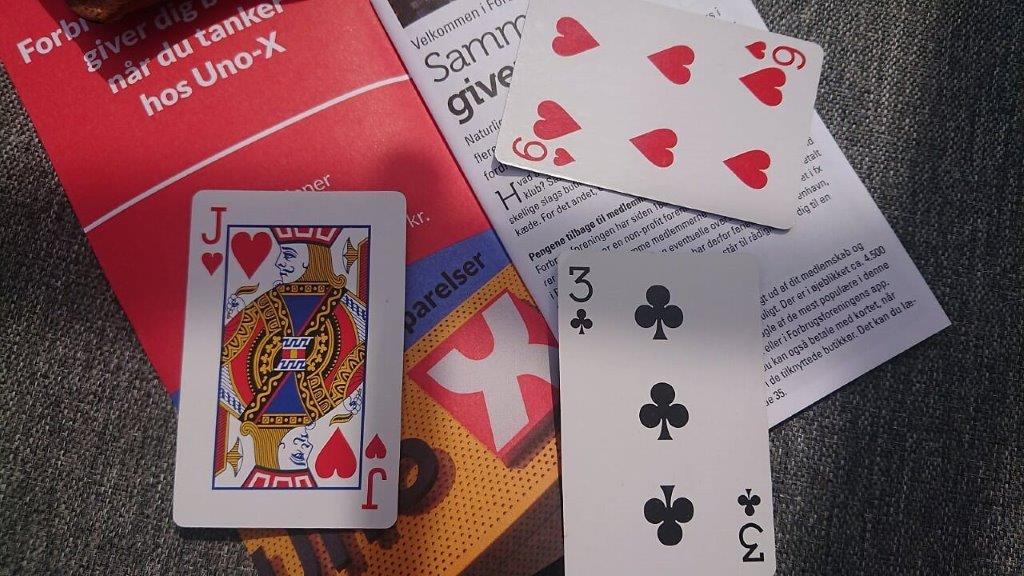3C: (561, 262, 597, 338)
JH: (196, 204, 229, 279)
